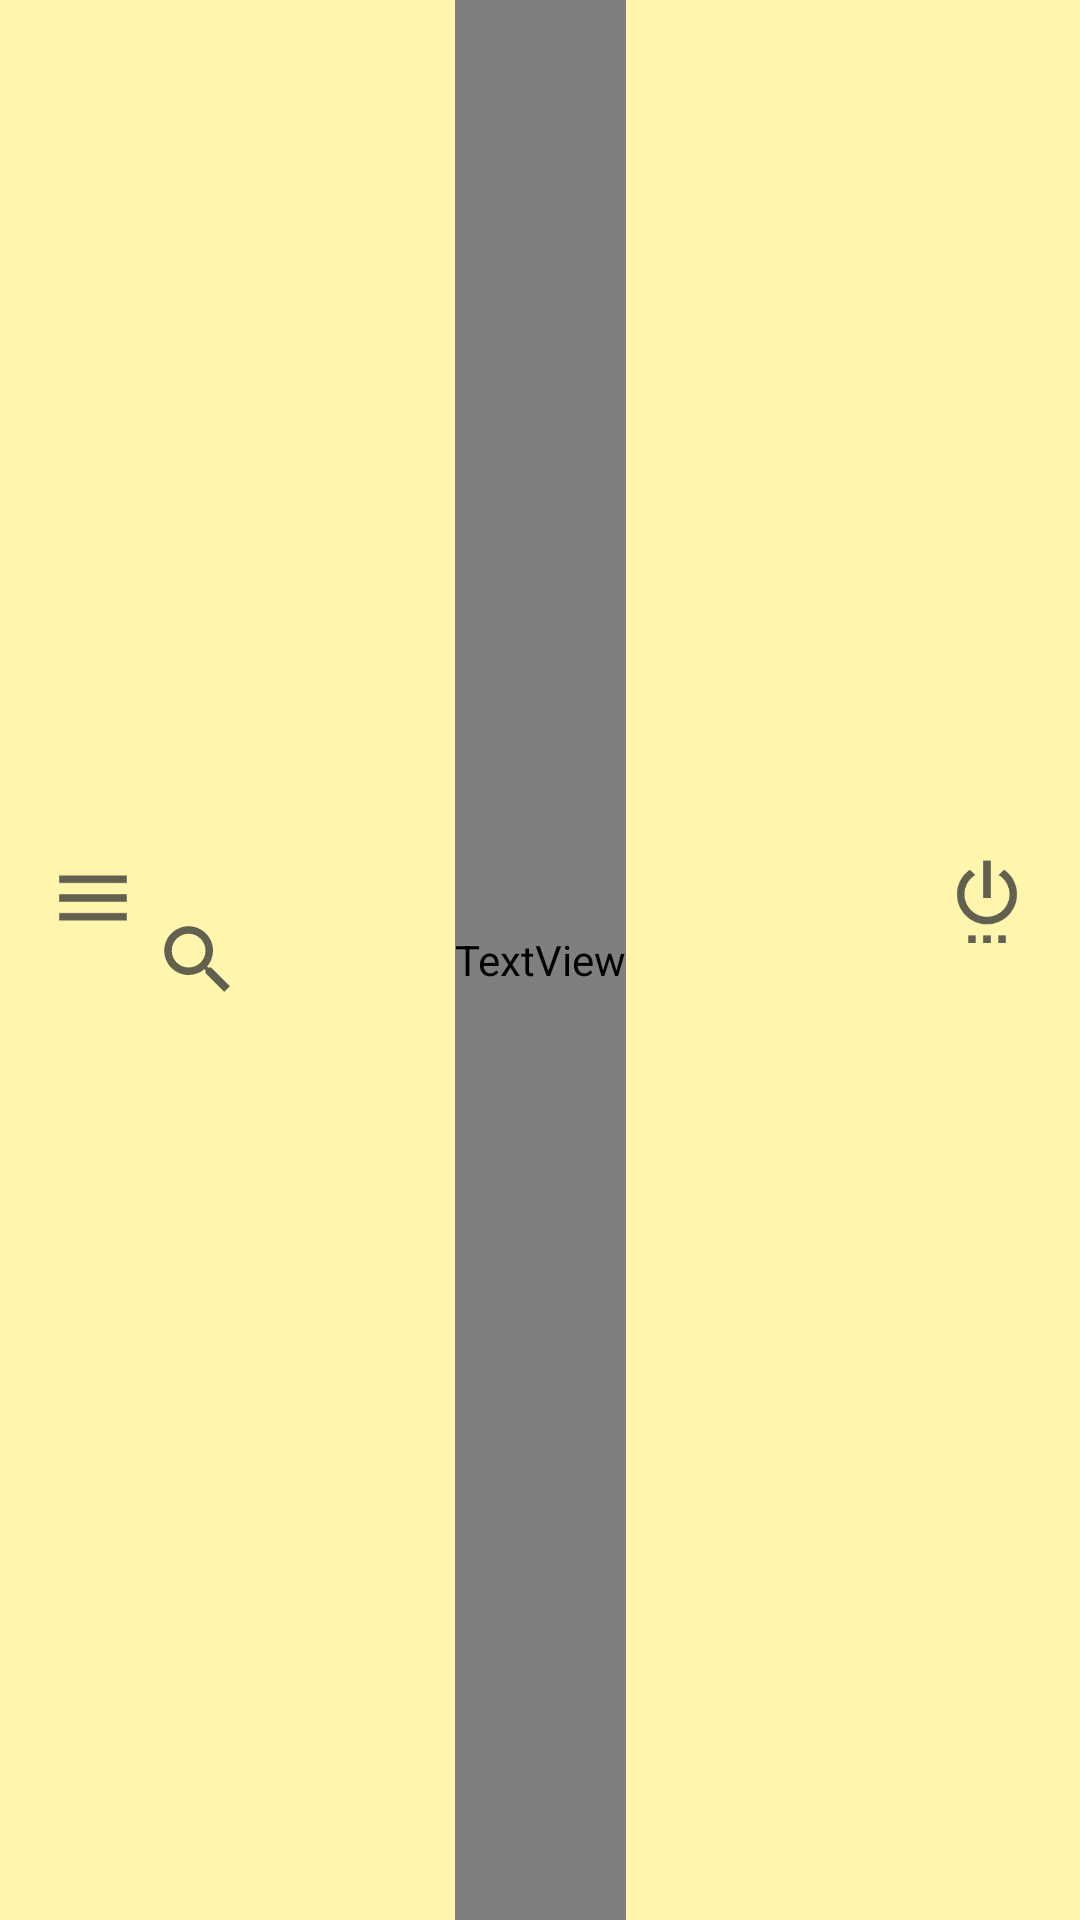

Icon click points for this 1080*1920 phone screenshot, format [x,y]:
menu: [93,898]
search: [197,959]
